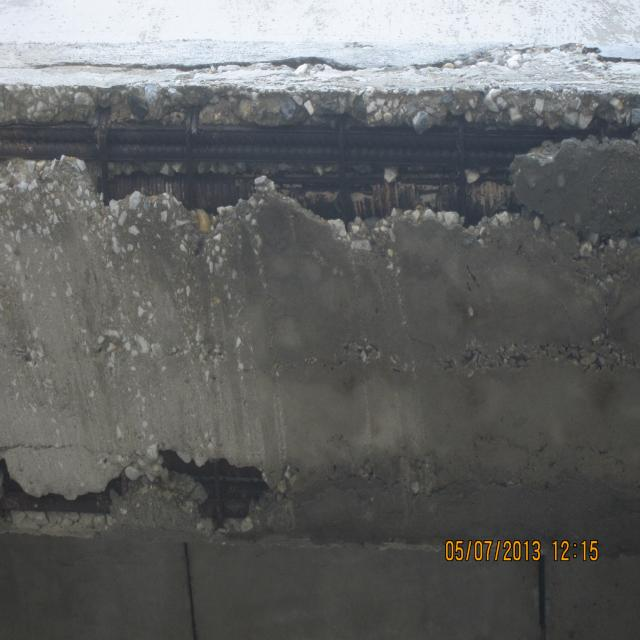corrosion: (2, 111, 640, 236), (157, 443, 279, 538), (0, 454, 128, 522)
